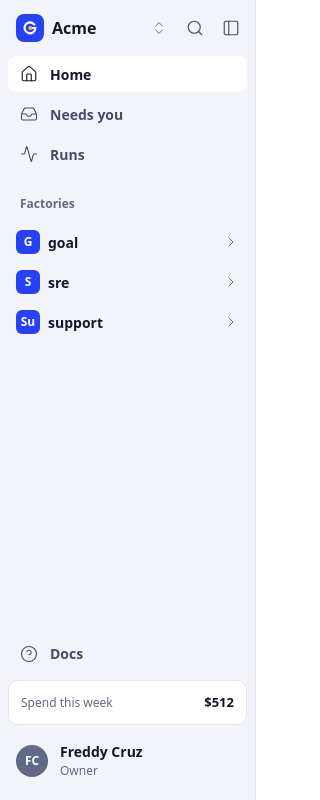
it: search from the sidebar › opens from the Search icon and swaps the top row for a labelled input
Click the button named "Search": x=195, y=28 [179,12,211,44]
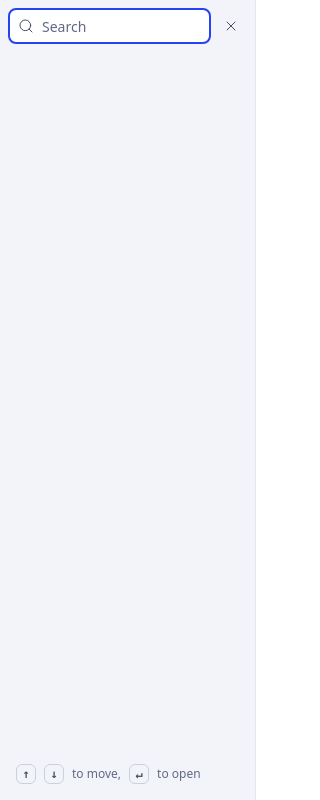
Expected: the button named "Close search" is shown, [215,10,247,42]
